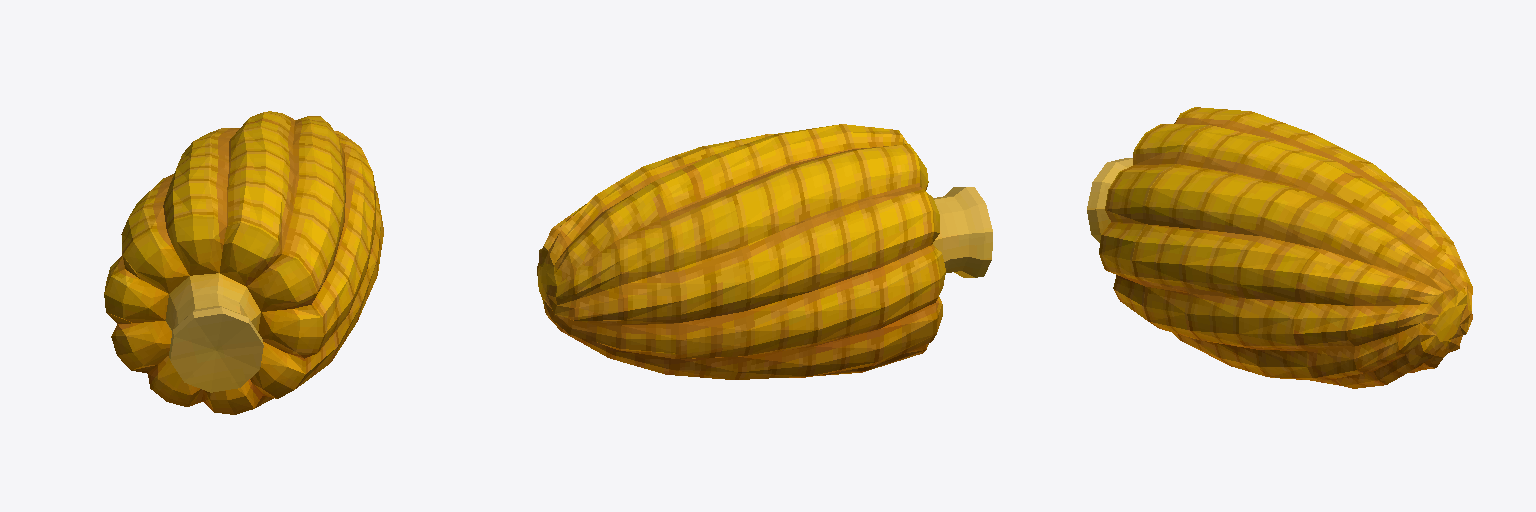
The picture shows the model from 3 angles: view 1: azimuth 30°, elevation 25°; view 2: azimuth 150°, elevation 25°; view 3: azimuth 270°, elevation 25°; orthographic projection.
Visible parts, largest first — view 1: Mais; view 2: Mais; view 3: Mais.
Boxes of the visible parts, <box> form: Mais: <box>104,111,383,414</box>; Mais: <box>537,124,992,379</box>; Mais: <box>1087,107,1472,388</box>.
Size of the model in its own units: 0.2008 by 0.1337 by 0.2073.
Materials: 1 (1 with a texture image).